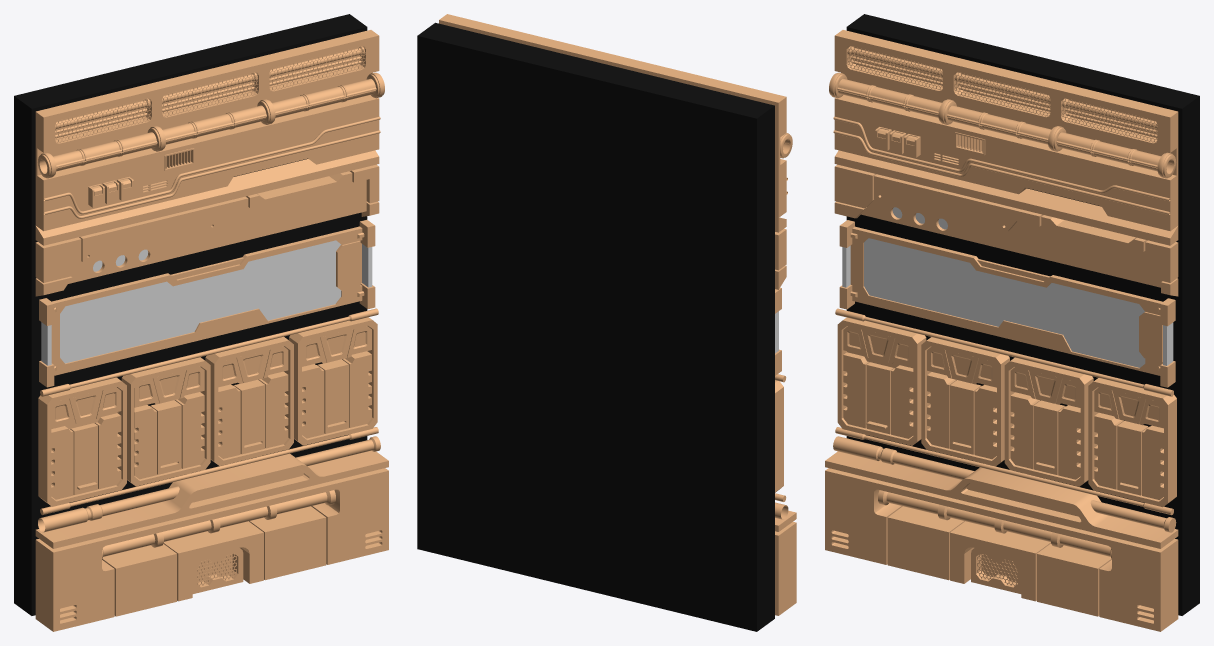
File: panel_high3-1.fbx
3 views of the same model, side by side, from view 1: azimuth 30°, elevation 25°; view 2: azimuth 150°, elevation 25°; view 3: azimuth 330°, elevation 25° (orthographic).
Parts seen in each view (by area): view 1: panel.003; view 2: panel.003; view 3: panel.003.
Boxes of the visible parts, bbox=[...] form: panel.003: bbox=[14, 14, 388, 631]; panel.003: bbox=[417, 14, 796, 631]; panel.003: bbox=[825, 14, 1199, 631].
Size of the model in its own units: 1800 by 2600 by 365.
